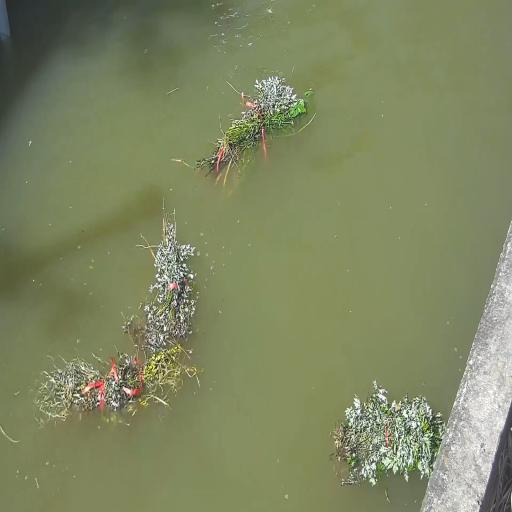twig: (330, 378, 444, 500), (191, 70, 312, 184), (38, 340, 198, 420), (140, 208, 200, 350), (2, 392, 77, 494)
